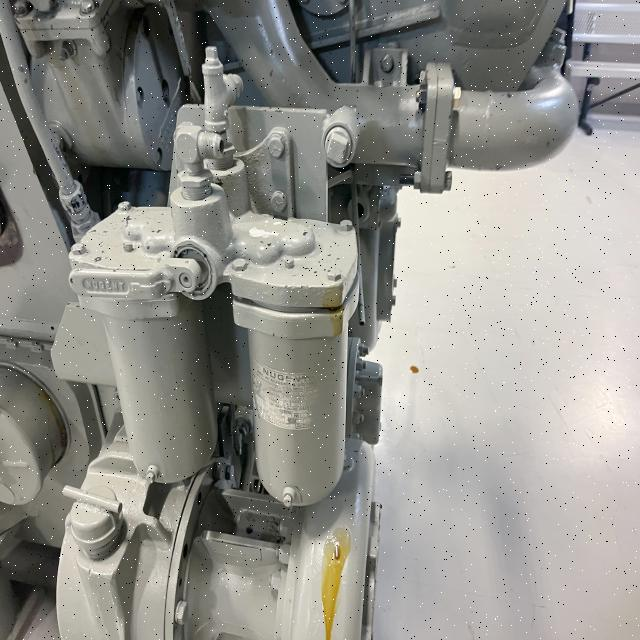Oil Leak: (305, 525, 354, 640), (321, 281, 344, 336), (408, 364, 420, 375)
